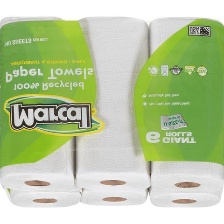tissue: (0, 11, 224, 214)
